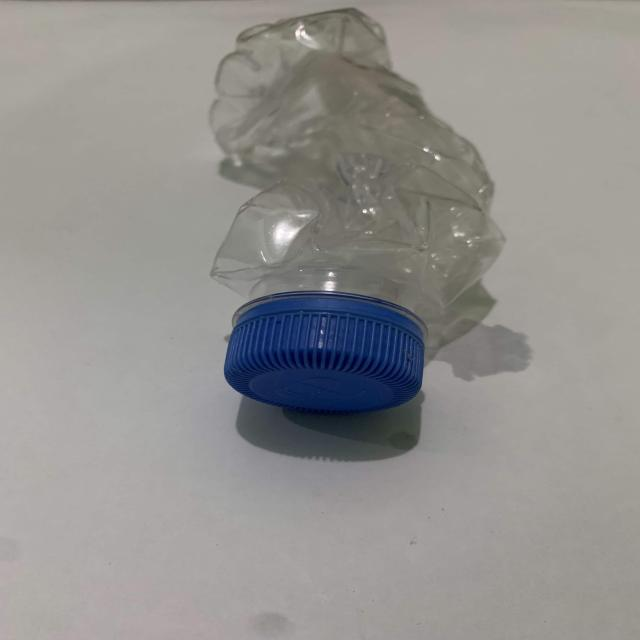bottle: (144, 2, 522, 433)
